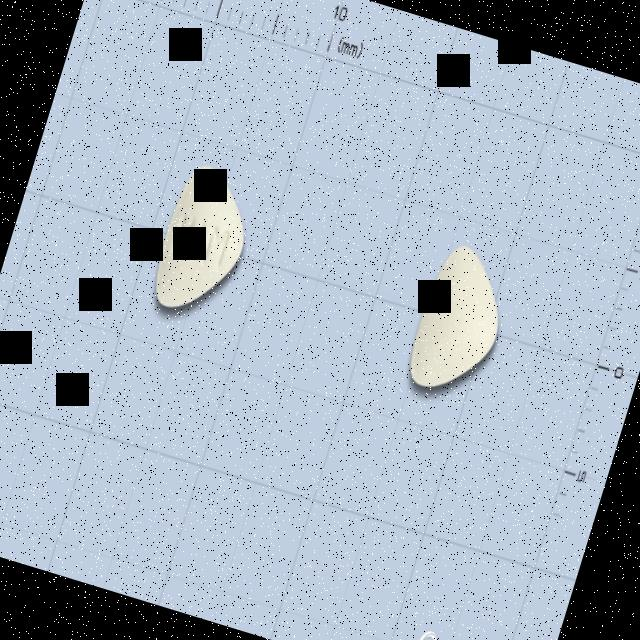Kimara - 20mg: (145, 160, 264, 324)
